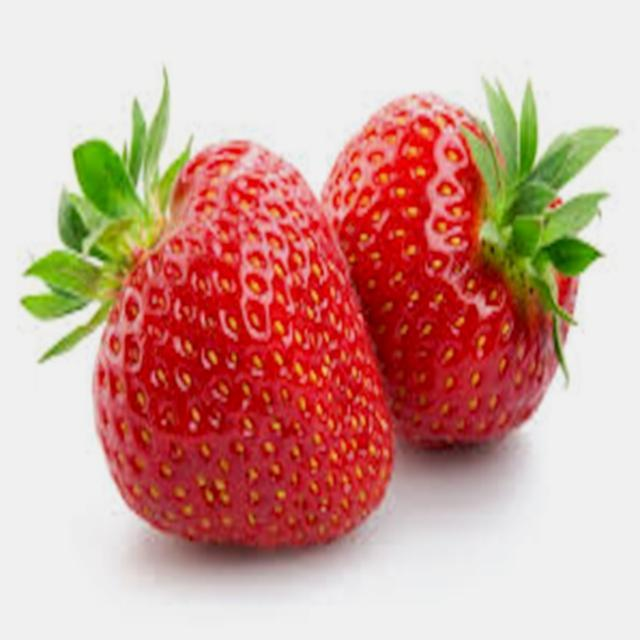strawberry: (22, 75, 392, 546), (322, 84, 616, 447)
